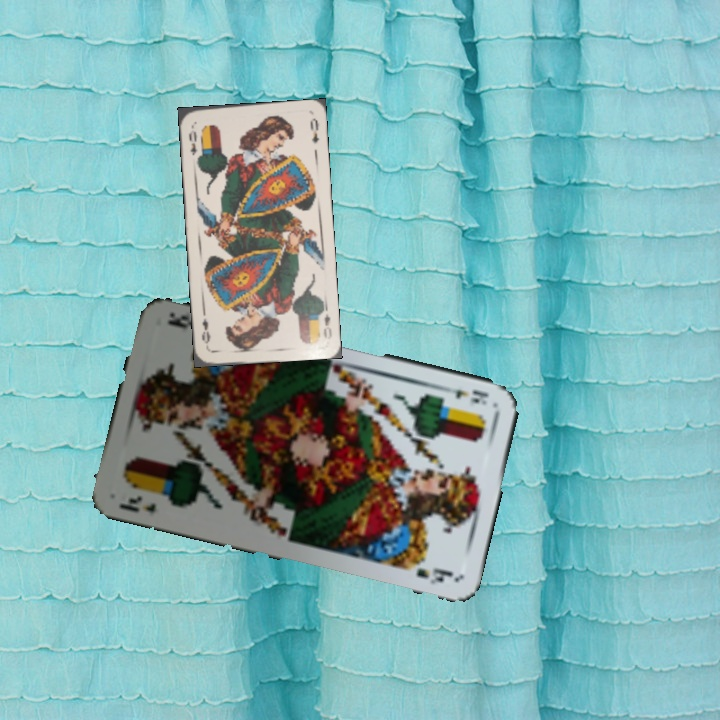EK: (439, 381, 492, 408), (114, 492, 159, 515)
EO: (315, 302, 334, 342), (185, 121, 200, 158)
